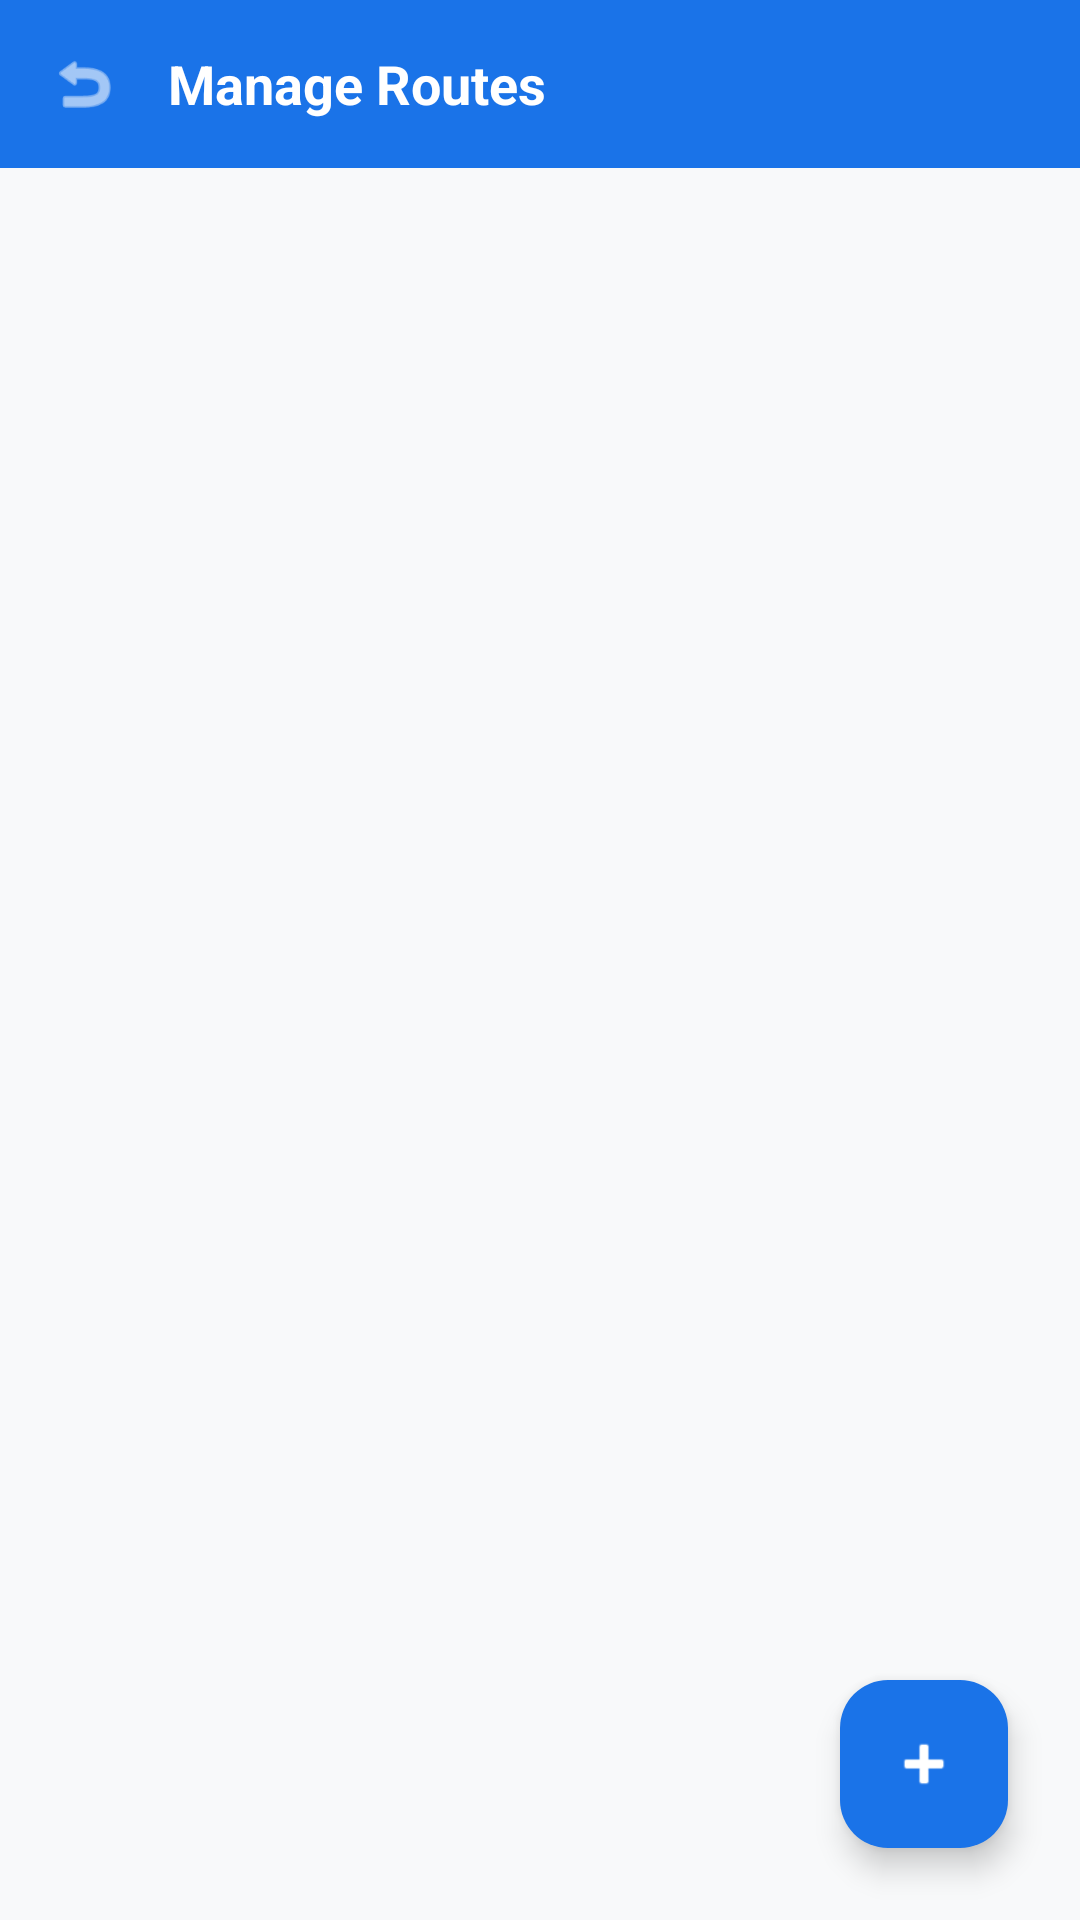

Named icons in this screenshot (1080x1920) and their bounding boxes, box(x1, y1, x2, y2):
Add Route: box(840, 1680, 1008, 1848)
Back: box(59, 61, 111, 108)
